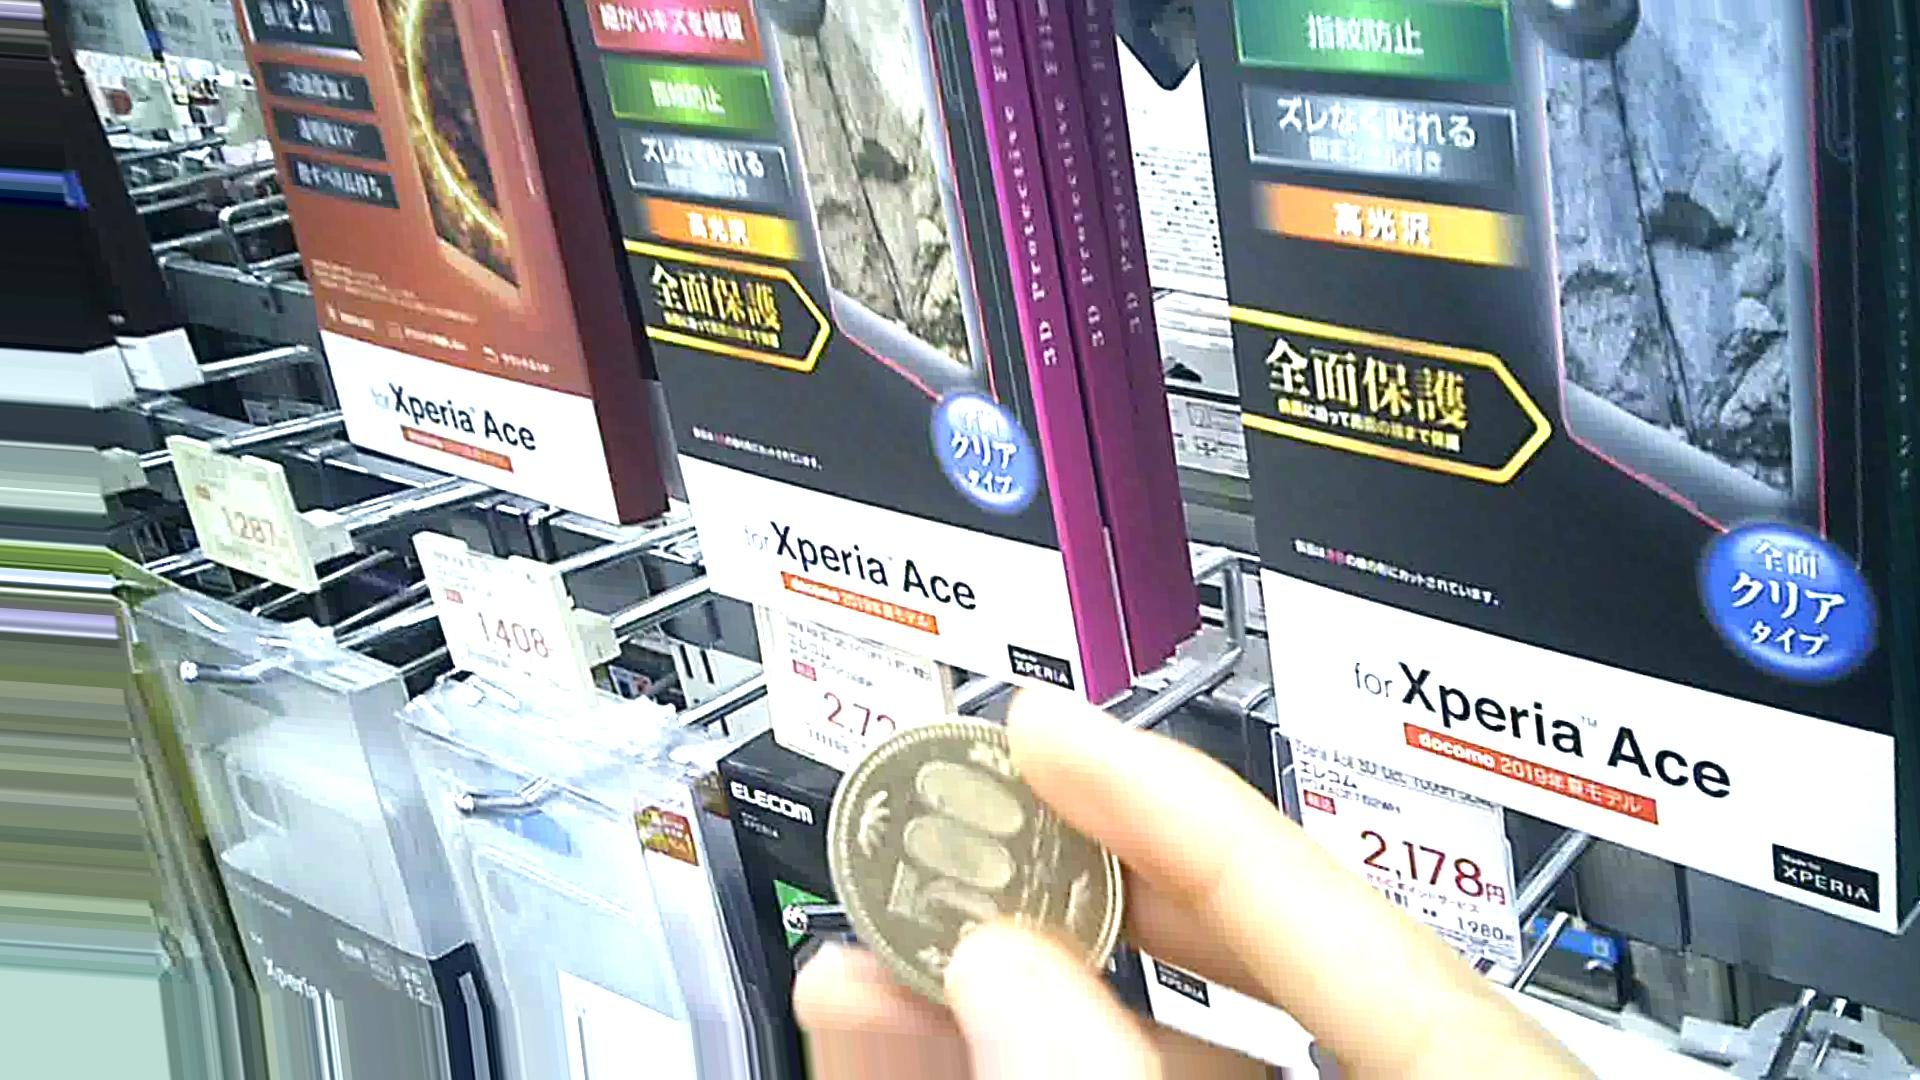500 Yen: (825, 702, 1131, 1006)
